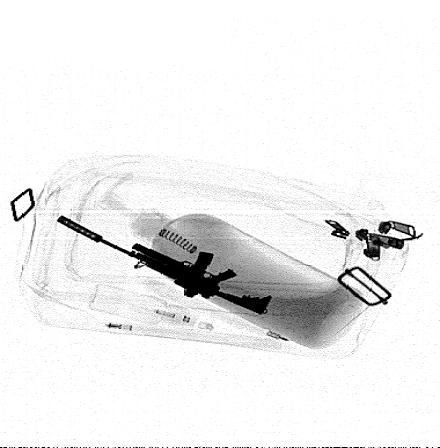Gun: (56, 214, 274, 316)
